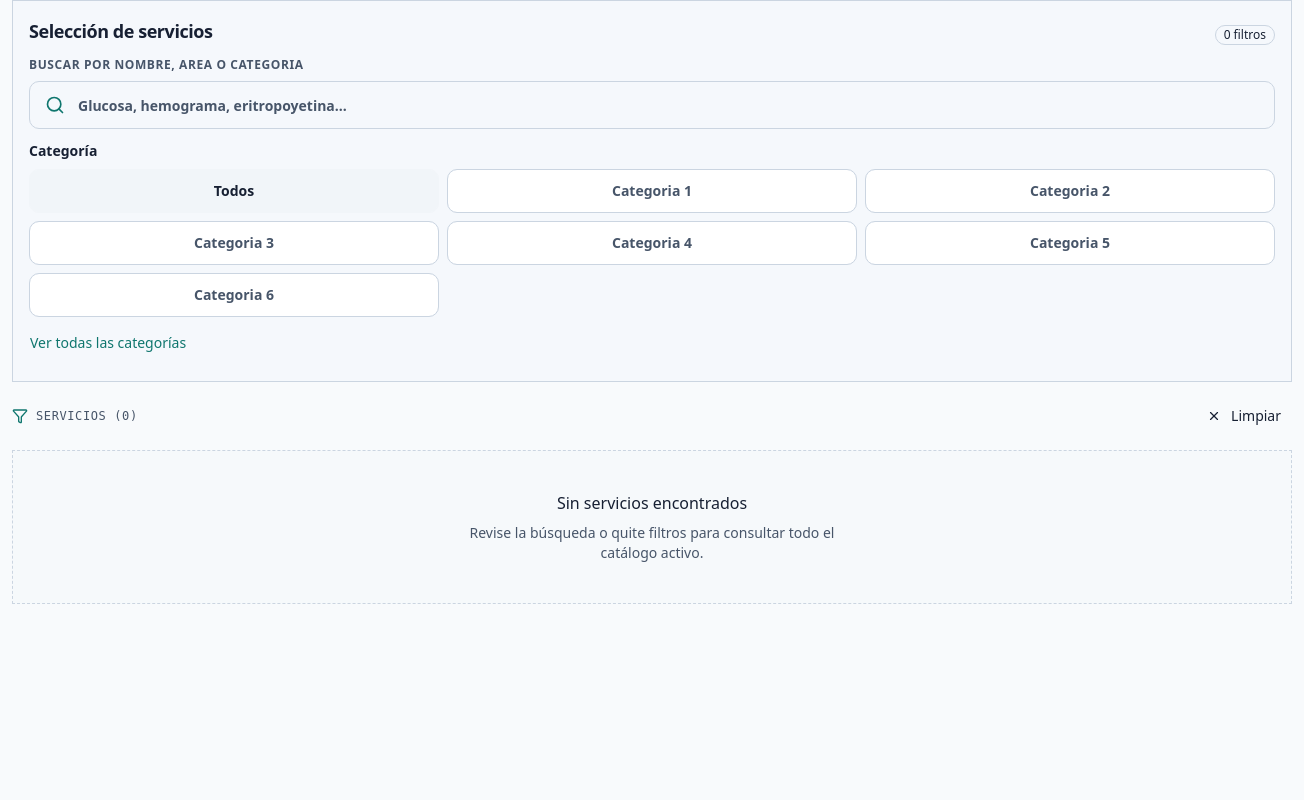
Scenario: ServiceSearch › keeps a large category catalog compact until the cashier asks to expand it
Expected: the radio button labelled "Categoria 6" is shown, x1=29 y1=273 x2=439 y2=317
Expected: the radio button labelled "Categoria 12" is not shown
Click the button "Ver todas las categorías": (108, 343) x1=29 y1=321 x2=187 y2=365
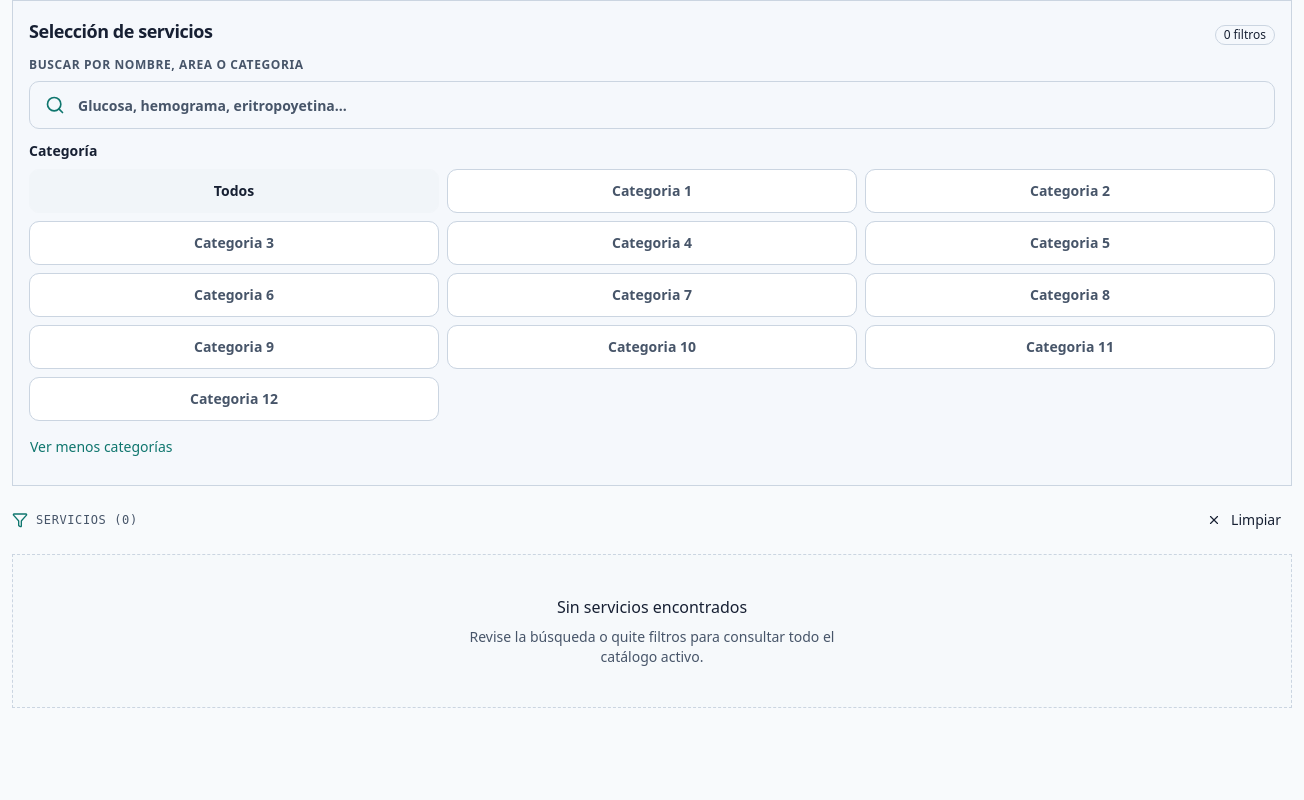
Expected: the radio button labelled "Categoria 12" is shown, x1=29 y1=377 x2=439 y2=421
